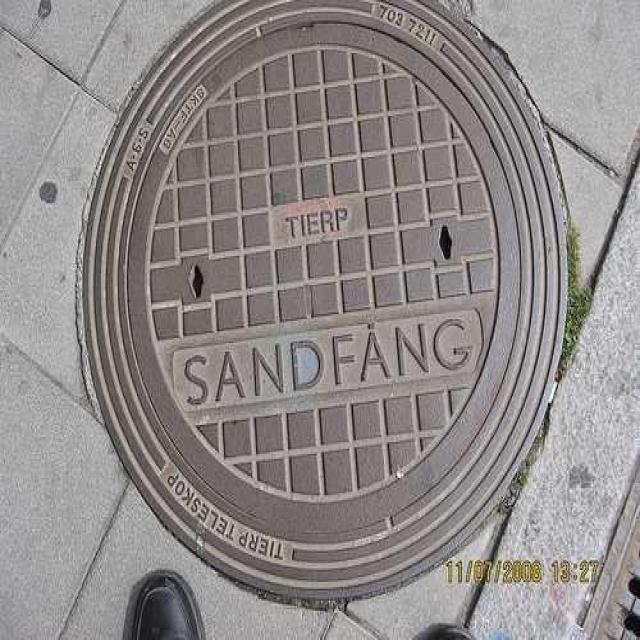manhole: (82, 0, 567, 601)
